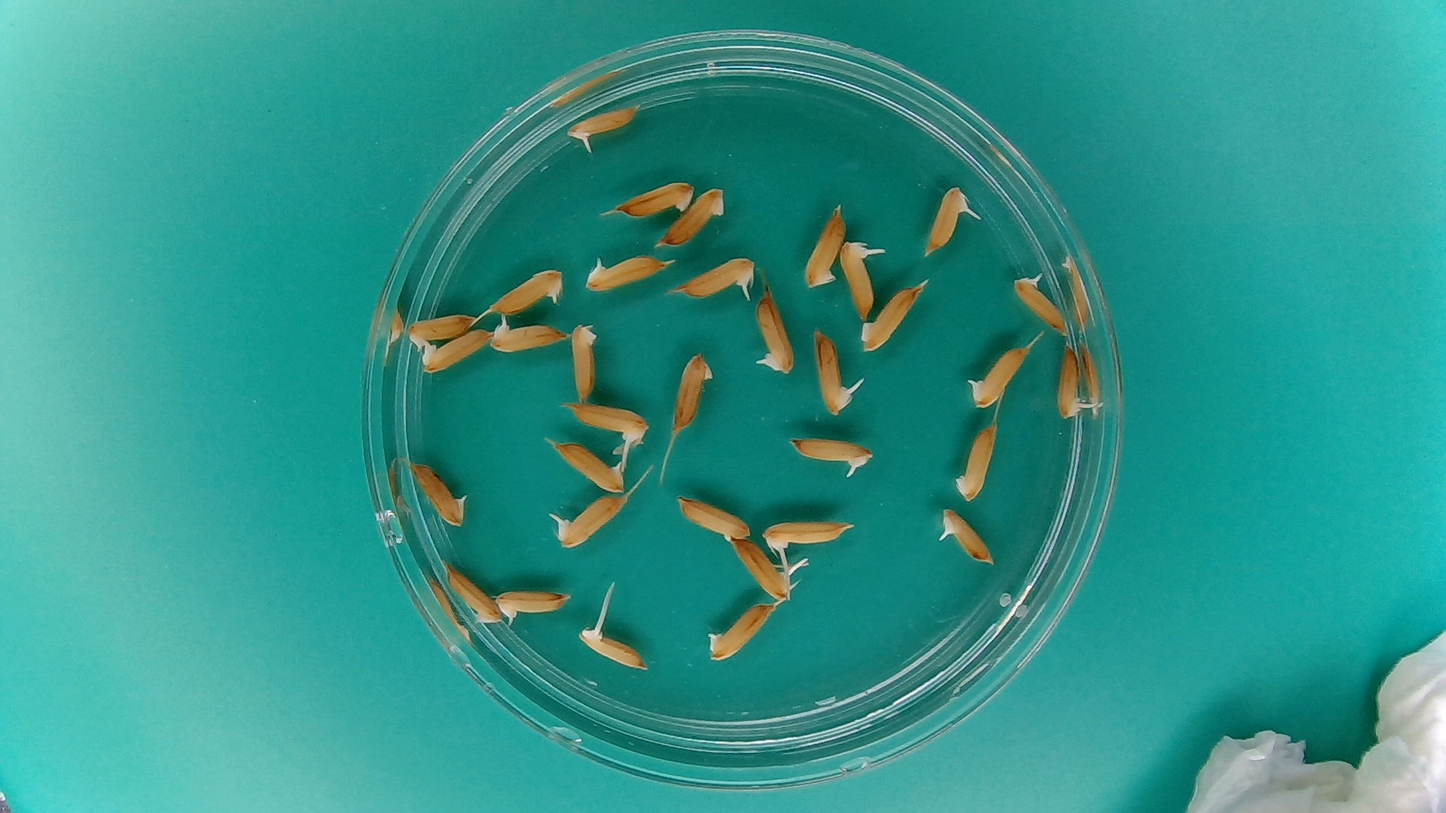no: (856, 277, 930, 358), (703, 601, 779, 667), (657, 186, 729, 249), (798, 201, 847, 293), (667, 346, 716, 435), (440, 560, 501, 628), (672, 492, 753, 542), (610, 175, 698, 220), (959, 419, 1002, 501), (418, 328, 496, 373), (404, 308, 477, 352), (567, 318, 602, 403)
yes: (404, 456, 472, 529), (784, 431, 877, 480), (727, 537, 798, 601), (751, 285, 798, 377), (545, 443, 627, 494), (557, 492, 629, 550), (486, 265, 567, 315), (970, 340, 1029, 407), (577, 625, 653, 674), (681, 255, 756, 303), (762, 516, 855, 554), (561, 404, 645, 446), (492, 583, 575, 625), (1013, 276, 1069, 335), (587, 253, 667, 293), (942, 510, 998, 567), (813, 333, 851, 416), (488, 315, 567, 354), (837, 241, 875, 321), (926, 185, 969, 254), (564, 101, 639, 139), (1054, 346, 1085, 422)
